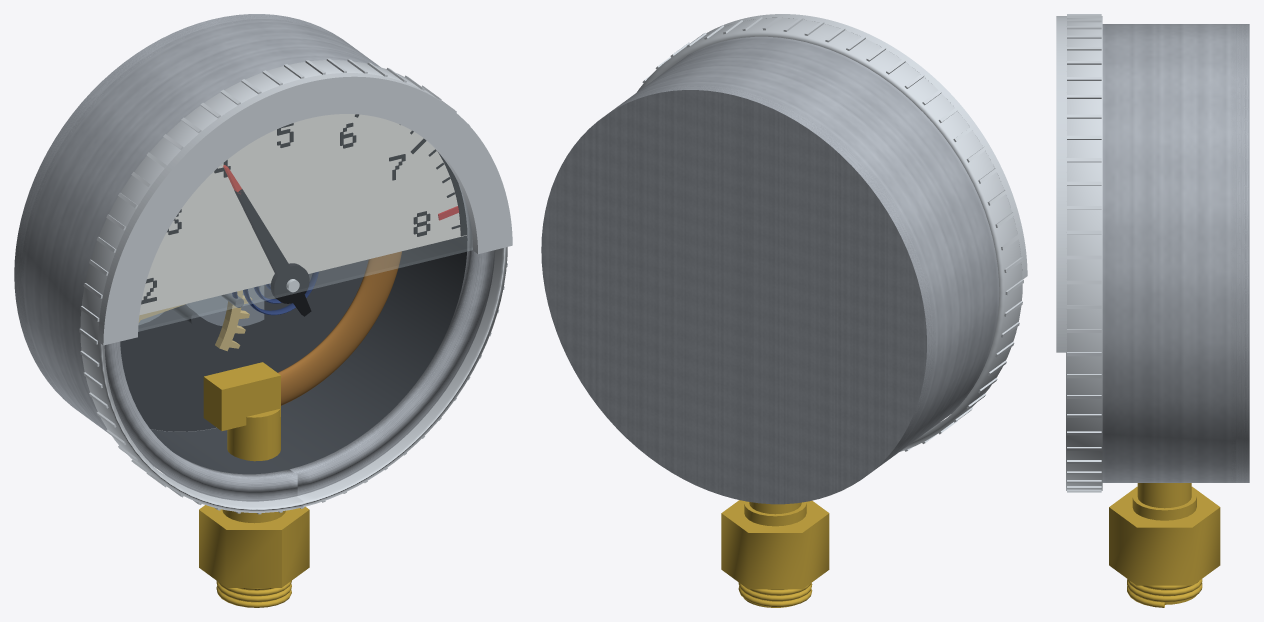
Rendered from pressure-gauge.glb.
3 renders of one model, left to right at view 1: azimuth 30°, elevation 25°; view 2: azimuth 150°, elevation 25°; view 3: azimuth 270°, elevation 25°, orthographic. The views are drawn at different scales.
Parts seen in each view (by area): view 1: GaugeCase, CoverGlass, Bezel, DialFace, PressurePort, BourdonTube, Movement, Pointer; view 2: GaugeCase, Bezel, PressurePort; view 3: GaugeCase, Bezel, PressurePort.
Part boxes in pixels (x1,y1,x2,y2): GaugeCase: [14, 14, 495, 501]; CoverGlass: [138, 114, 472, 331]; Bezel: [79, 58, 512, 514]; DialFace: [139, 114, 467, 314]; PressurePort: [199, 362, 309, 607]; BourdonTube: [278, 251, 401, 405]; Movement: [138, 271, 318, 351]; Pointer: [223, 165, 311, 316]; GaugeCase: [541, 36, 999, 504]; Bezel: [637, 14, 1027, 451]; PressurePort: [721, 500, 829, 607]; GaugeCase: [1102, 24, 1249, 482]; Bezel: [1056, 14, 1102, 492]; PressurePort: [1109, 483, 1220, 607].
Size of the model in its own units: 2.09 by 2.68 by 0.842.
Materials: 17 (1 with a texture image).
